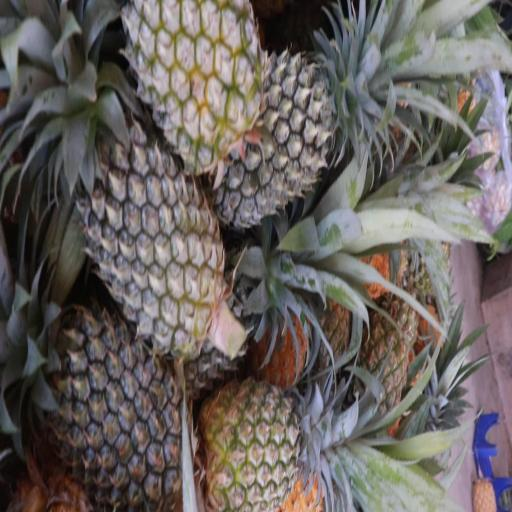------------------------------: (137, 0, 264, 171), (200, 391, 329, 511)
